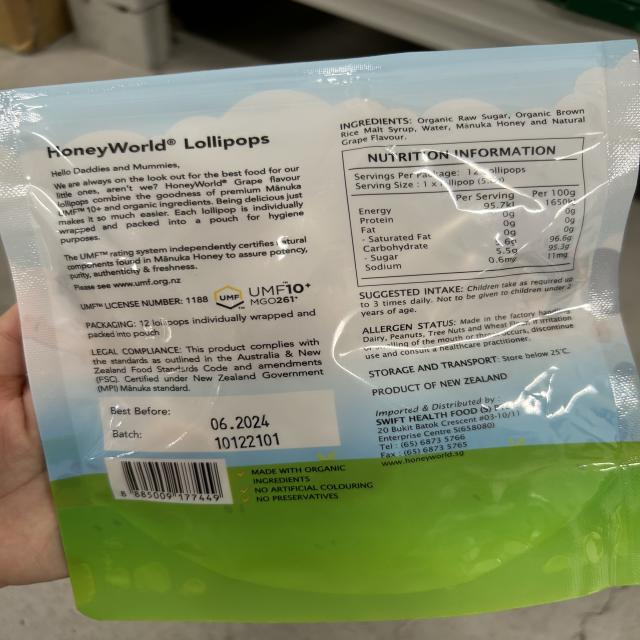object_name: (6, 91, 640, 594)
